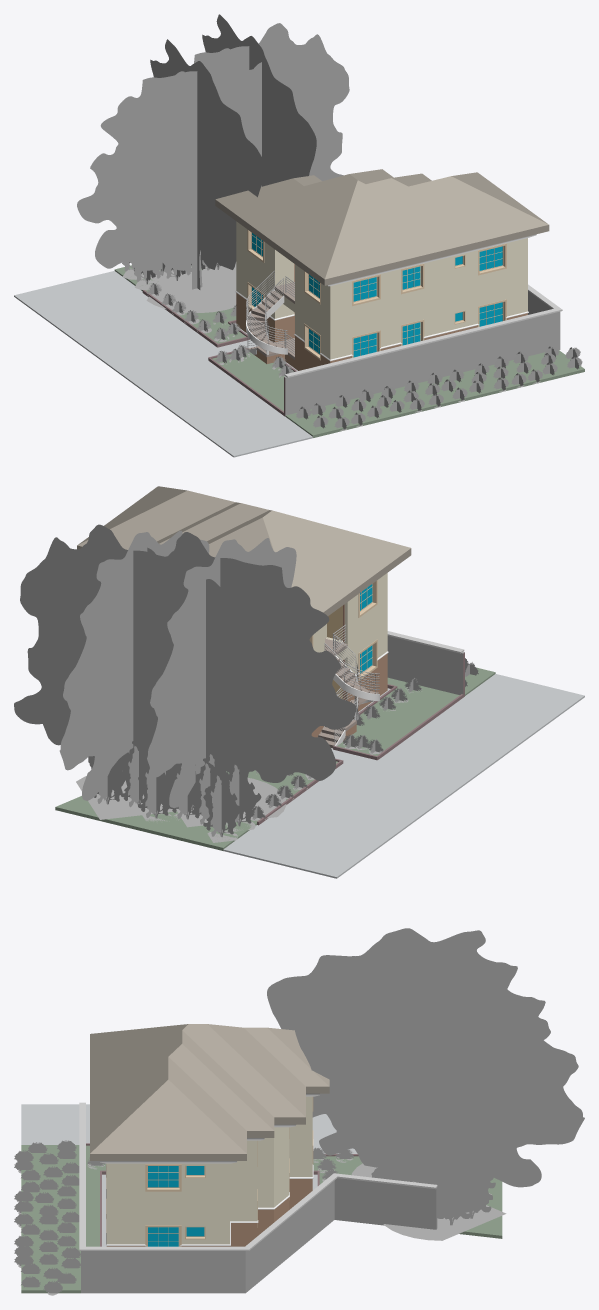
3 renders of one model, top to bottom at view 1: azimuth 30°, elevation 25°; view 2: azimuth 150°, elevation 25°; view 3: azimuth 270°, elevation 25°, orthographic. The views are drawn at different scales.
Visible parts, largest first — view 1: Material15 (×3), Material4, Material16, Material2 (×2), Material20, Material17, Material21, Material1, Material9, Material13, Material14; view 2: Material15 (×10), Material16, Material4, Material17, Material20, Material2, Material1, Material14; view 3: Material15 (×5), Material4, Material20 (×3), Material2 (×5), Material17, Material16, Material21 (×4), Material6 (×2), Material3, Material1.
Part boxes in pixels (x1=…): Material15 (×3): x1=77, y1=14, x2=349, y2=348; Material4: x1=215, y1=169, x2=549, y2=285; Material16: x1=14, y1=271, x2=312, y2=457; Material2 (×2): x1=238, y1=223, x2=523, y2=359; Material20: x1=284, y1=311, x2=560, y2=416; Material17: x1=114, y1=265, x2=584, y2=437; Material21: x1=284, y1=308, x2=557, y2=377; Material1: x1=238, y1=295, x2=327, y2=370; Material9: x1=272, y1=248, x2=294, y2=318; Material13: x1=247, y1=290, x2=286, y2=353; Material14: x1=246, y1=289, x2=287, y2=354; Material15 (×10): x1=14, y1=524, x2=379, y2=842; Material16: x1=223, y1=674, x2=584, y2=878; Material4: x1=77, y1=486, x2=411, y2=615; Material17: x1=55, y1=667, x2=495, y2=850; Material20: x1=387, y1=636, x2=464, y2=694; Material2: x1=313, y1=575, x2=384, y2=674; Material1: x1=311, y1=655, x2=384, y2=737; Material14: x1=333, y1=655, x2=379, y2=719; Material15 (×5): x1=267, y1=928, x2=584, y2=1240; Material4: x1=90, y1=1024, x2=329, y2=1160; Material20 (×3): x1=84, y1=1178, x2=437, y2=1293; Material2 (×5): x1=106, y1=1096, x2=307, y2=1244; Material17: x1=21, y1=1145, x2=502, y2=1293; Material16: x1=21, y1=1104, x2=357, y2=1246; Material21 (×4): x1=79, y1=1102, x2=437, y2=1250; Material6 (×2): x1=148, y1=1166, x2=178, y2=1246; Material3: x1=99, y1=1093, x2=319, y2=1163; Material1: x1=230, y1=1223, x2=252, y2=1246.
Bounding box in the file's own units: 66.65 × 41.75 × 83.2.
